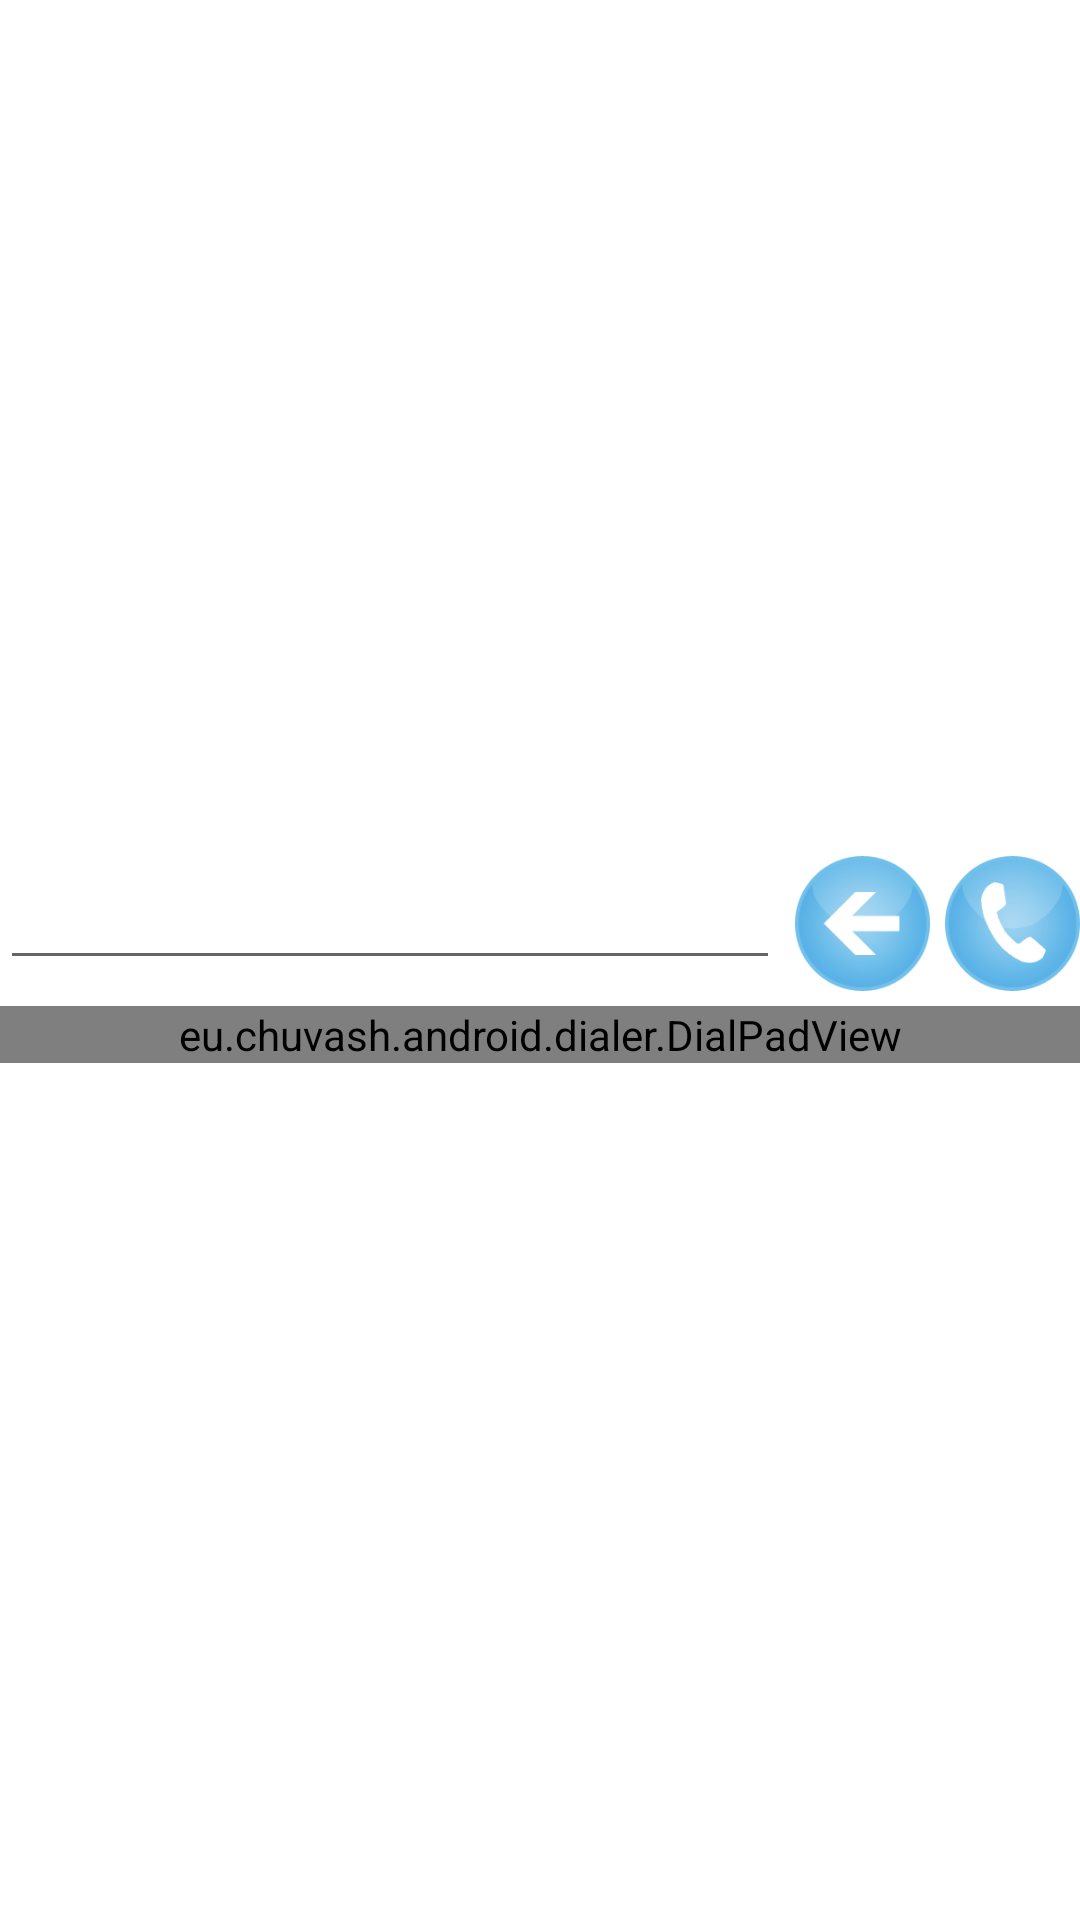

Where to tap for icons on this 1080 x 1920 app screen, as (x,y):
buttonarrow: (862,923)
buttonphone: (1012,923)
